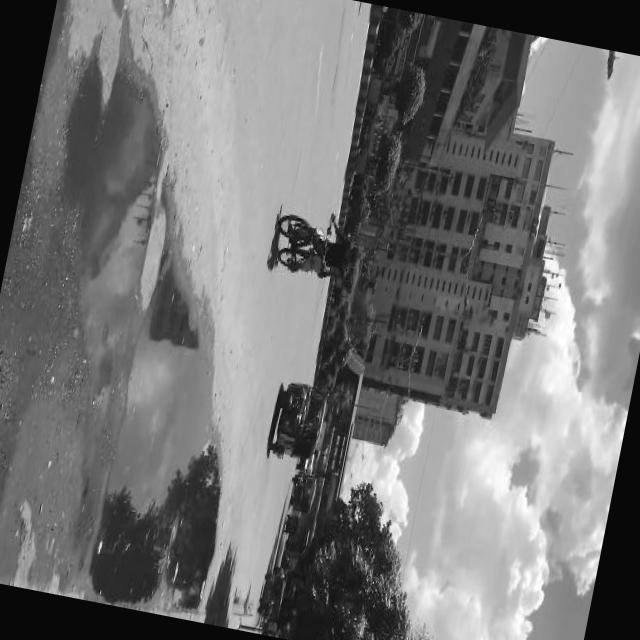bus: (290, 471, 318, 512)
motorcycle: (268, 380, 330, 466), (255, 572, 288, 622), (284, 511, 301, 533), (290, 470, 308, 488)
truck: (296, 450, 316, 473)
